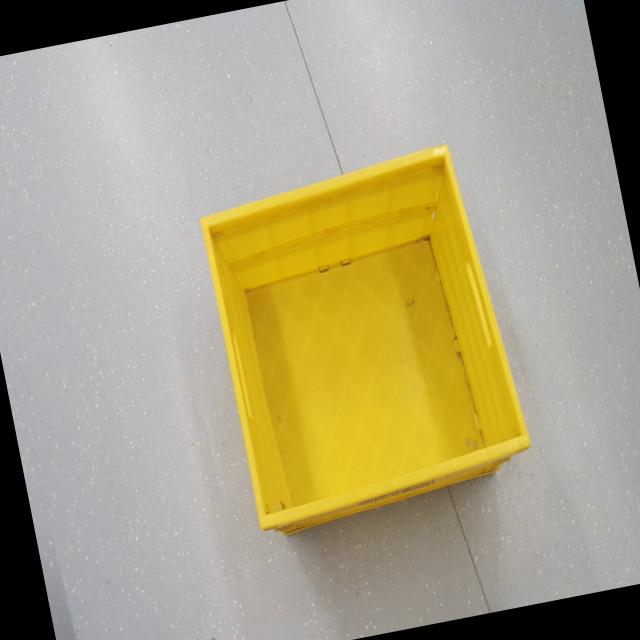box: (184, 124, 550, 574)
